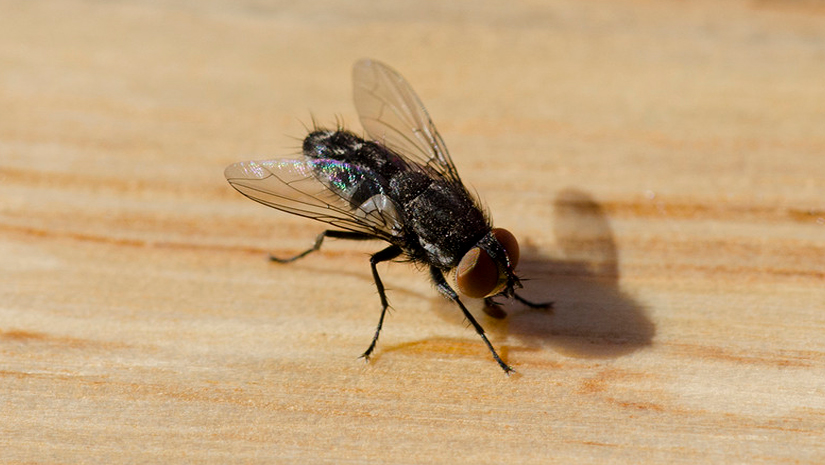fly: (219, 53, 562, 386)
